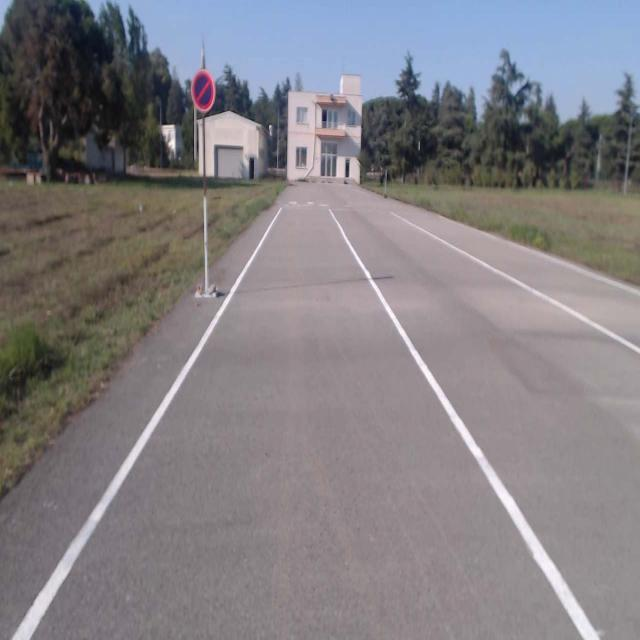parkyasak: (190, 71, 213, 110)
